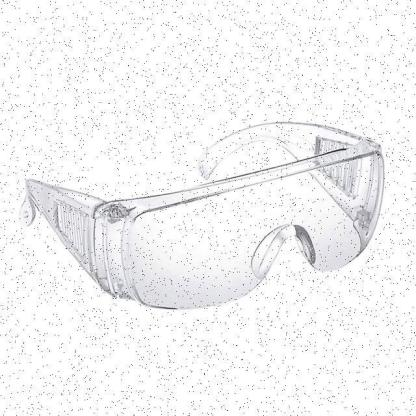oculos: (1, 100, 413, 319)
